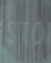Stop: (7, 4, 48, 51)
